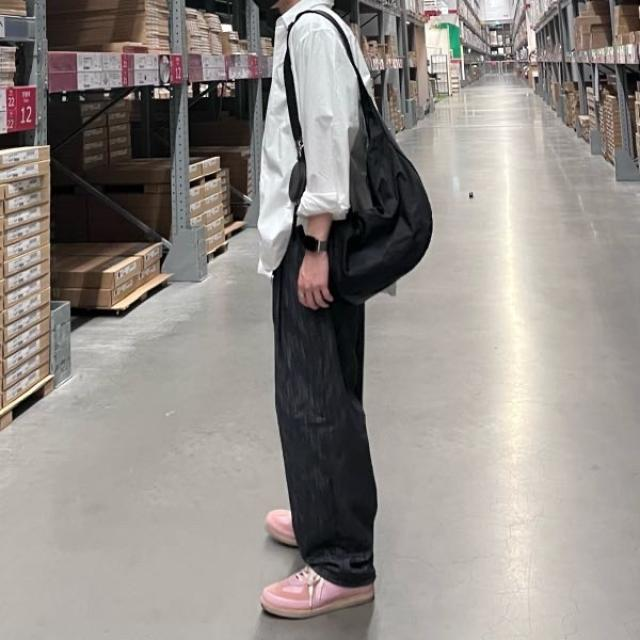denimpants: (270, 214, 376, 588)
shirt: (259, 0, 377, 282)
